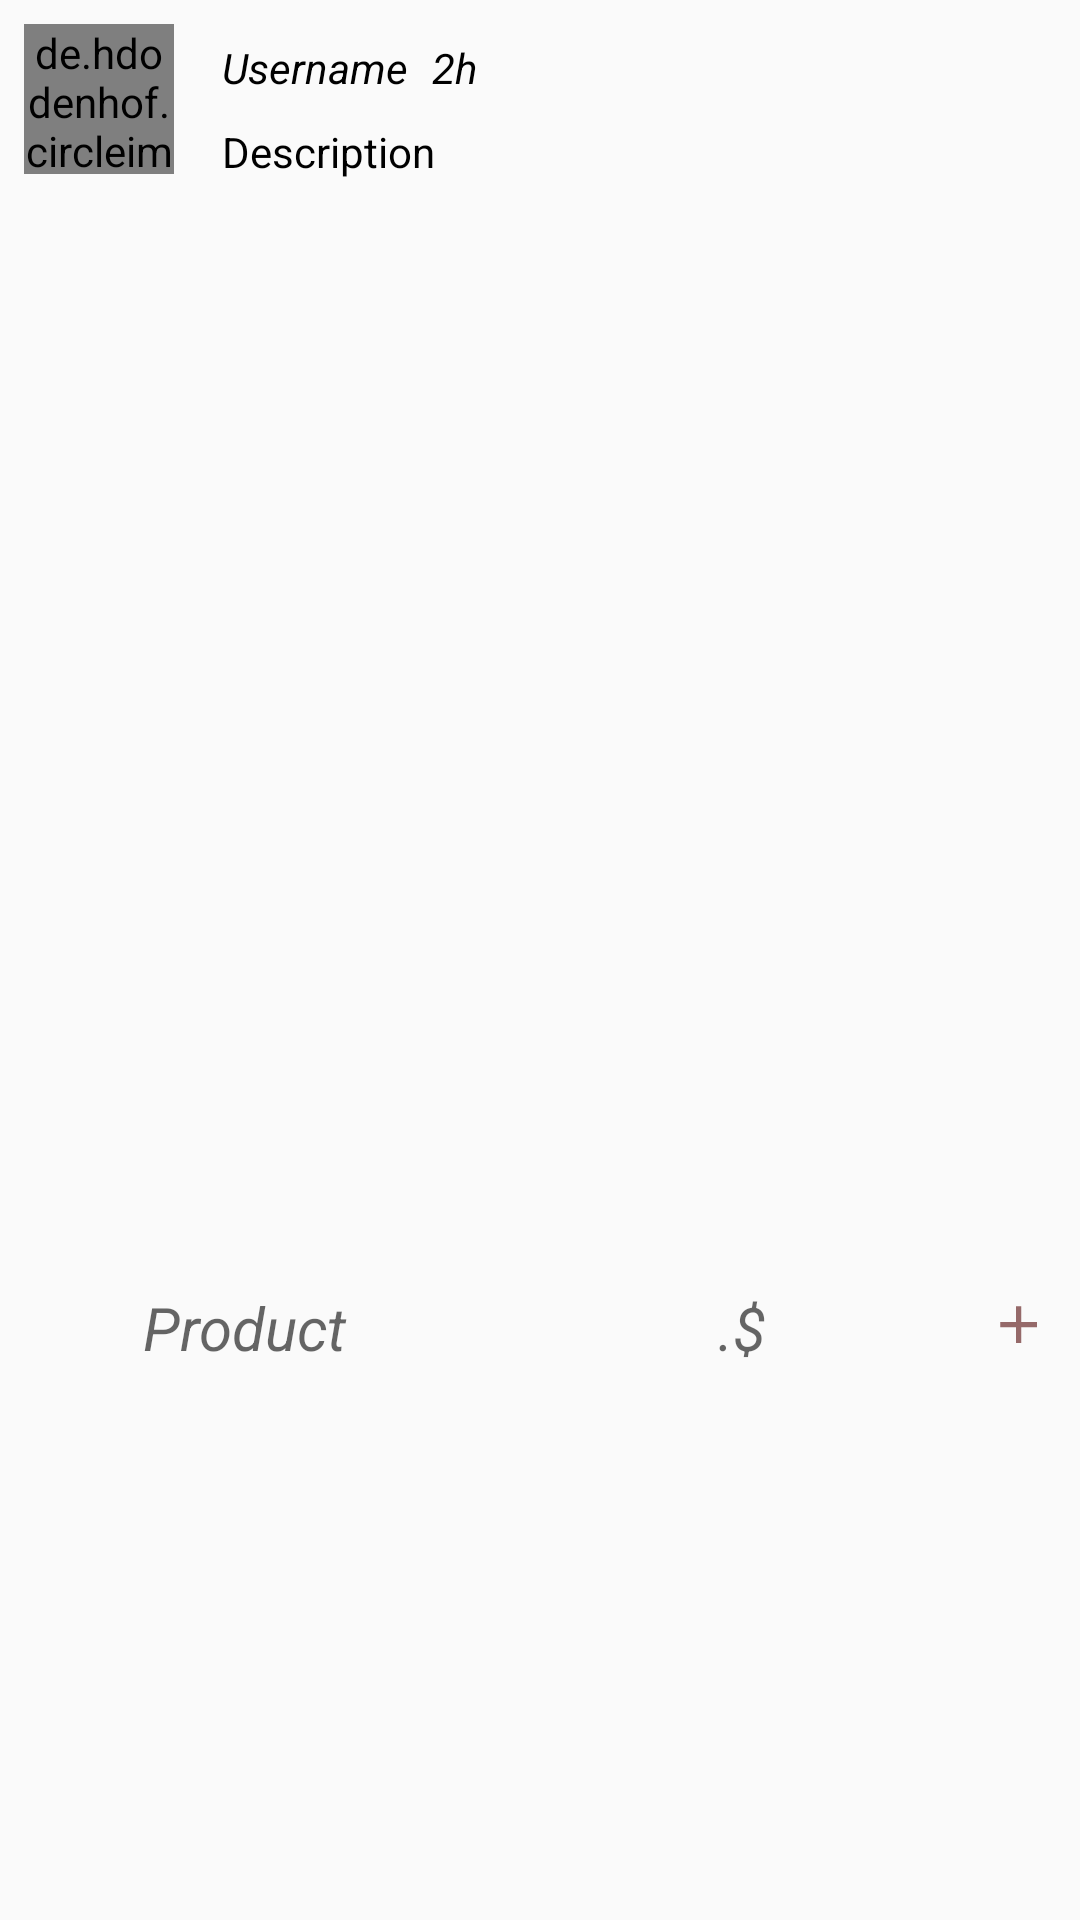

Named icons in this screenshot (1080px×1920px) and their bounding boxes, region(x1, y1, x2, y2):
add: region(1000, 1306, 1037, 1343)
